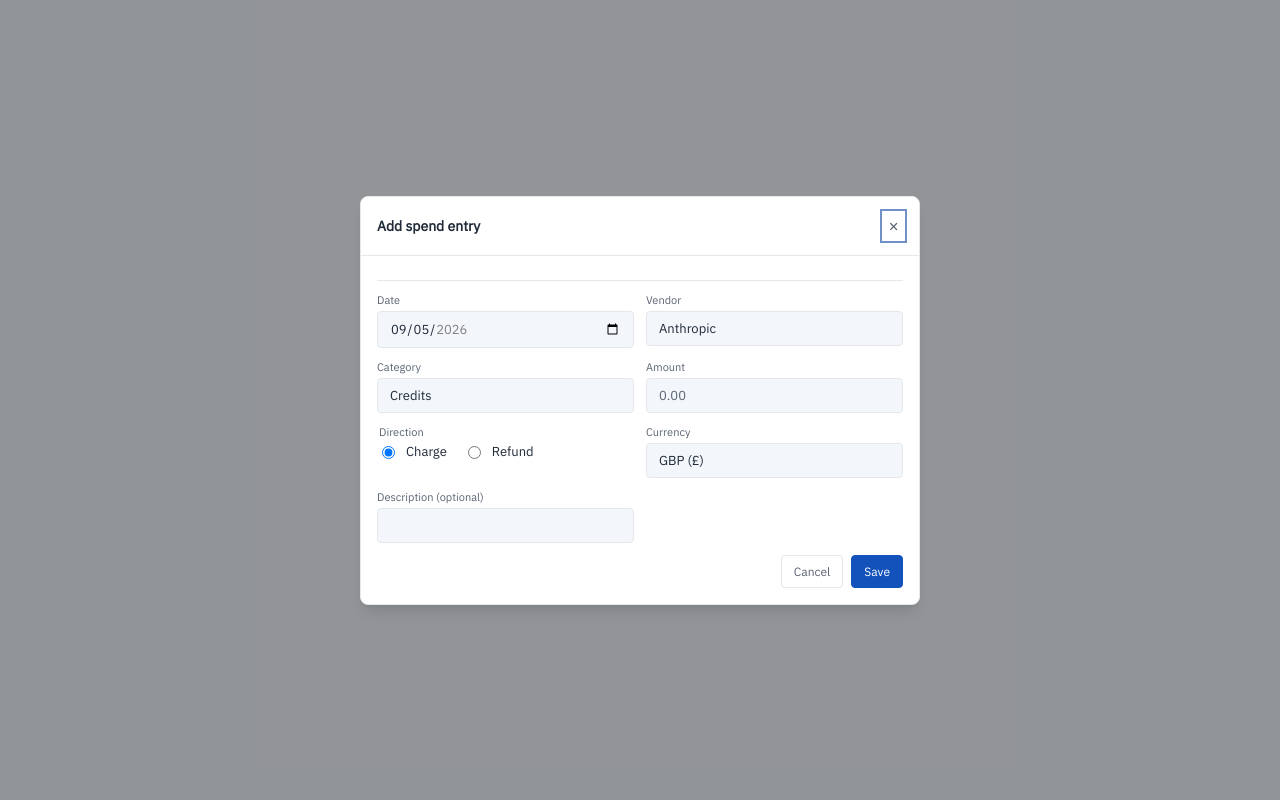
SpendEntryModal › refuses a typed negative amount — the toggle is the only way to book a refund
The image size is (1280, 800).
In the number field labelled "Amount": [774, 395] box top-left (646, 378), bottom-right (903, 412), type "-5"
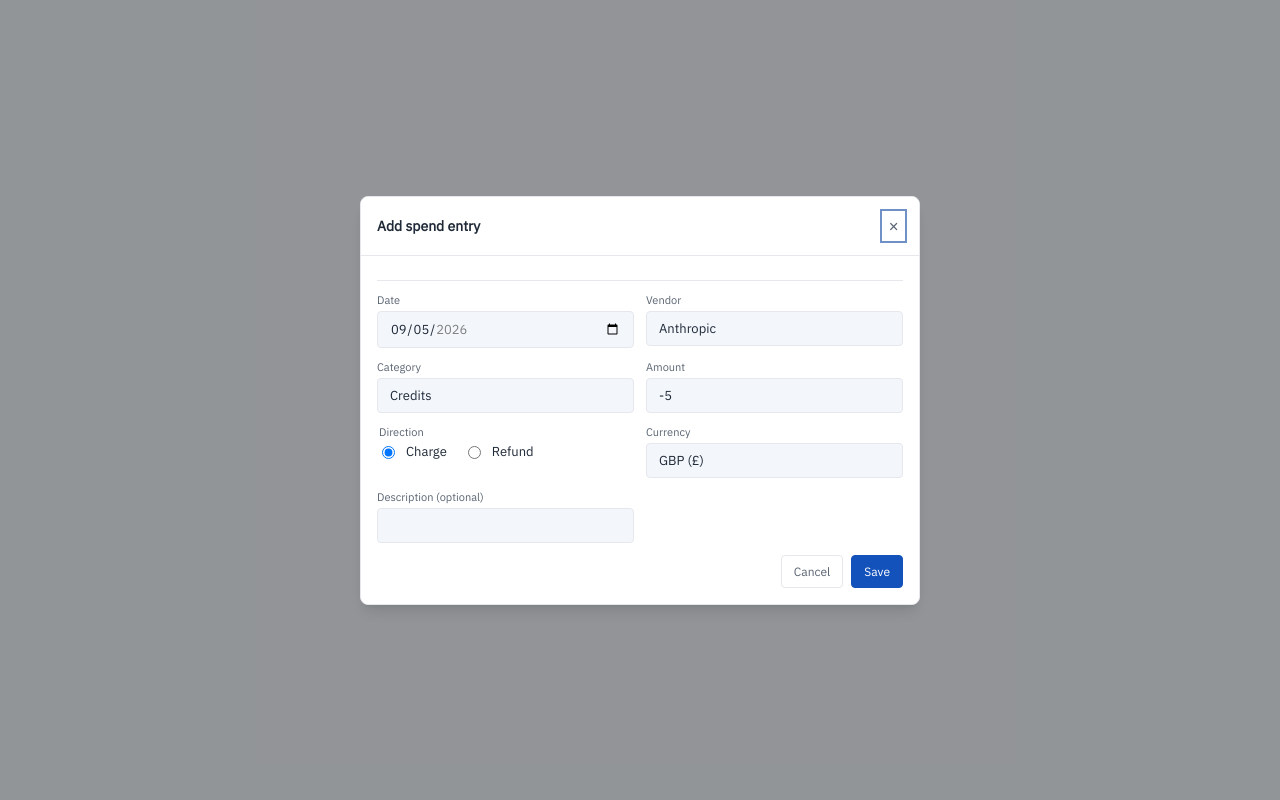
Click the button "Save": [877, 571] box top-left (851, 554), bottom-right (903, 588)
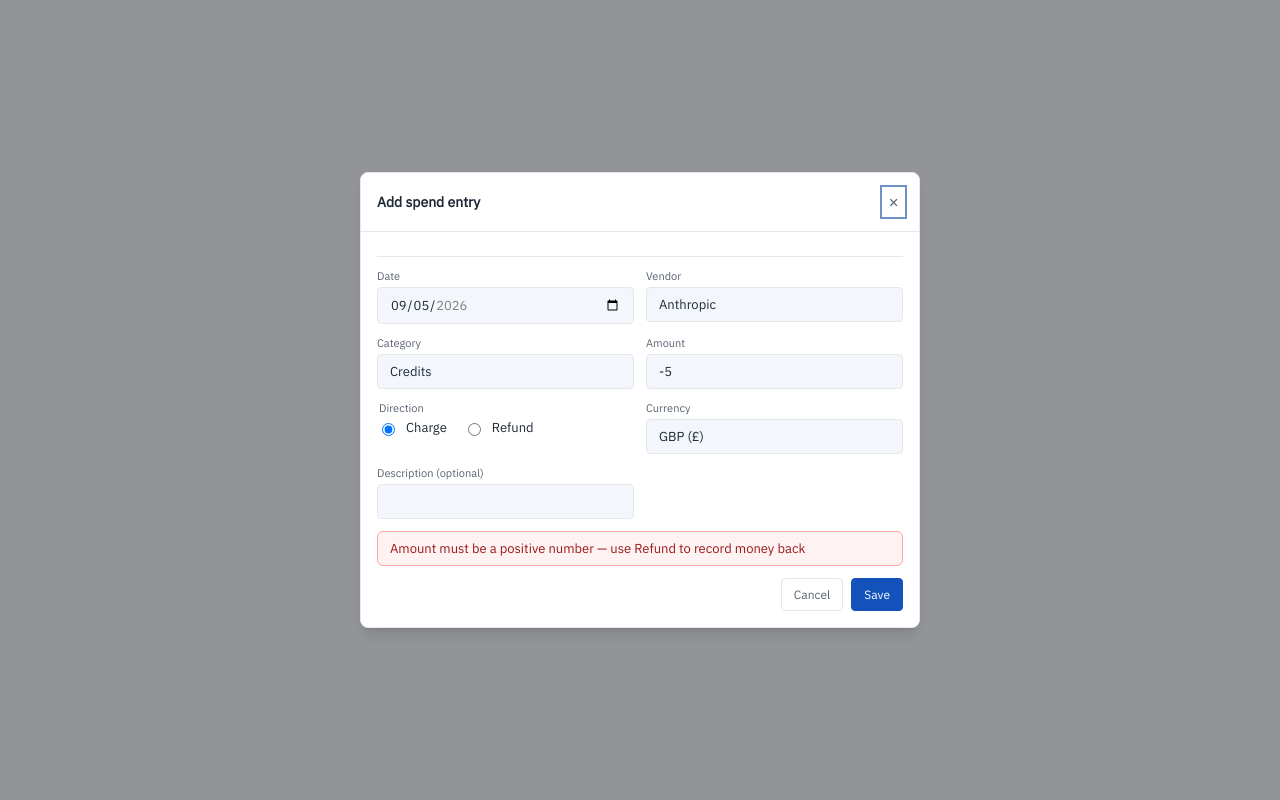
Now the message "Amount must be a positive number — use Refund to record money back" is shown, box top-left (377, 531), bottom-right (903, 566)
